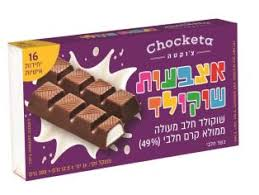Chocolate: (4, 18, 254, 169)
